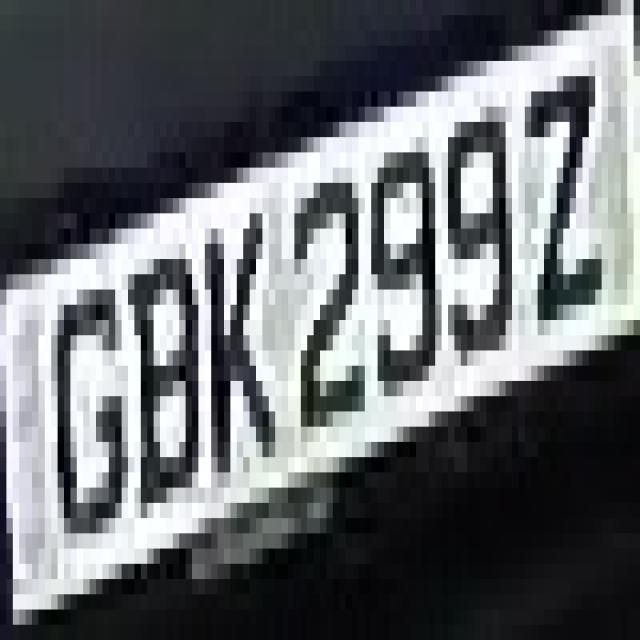2: (294, 168, 372, 442)
9: (352, 76, 435, 412), (435, 91, 512, 412)
B: (121, 228, 218, 548)
G: (45, 229, 134, 579)
K: (186, 183, 275, 533)
Z: (518, 61, 602, 381)
